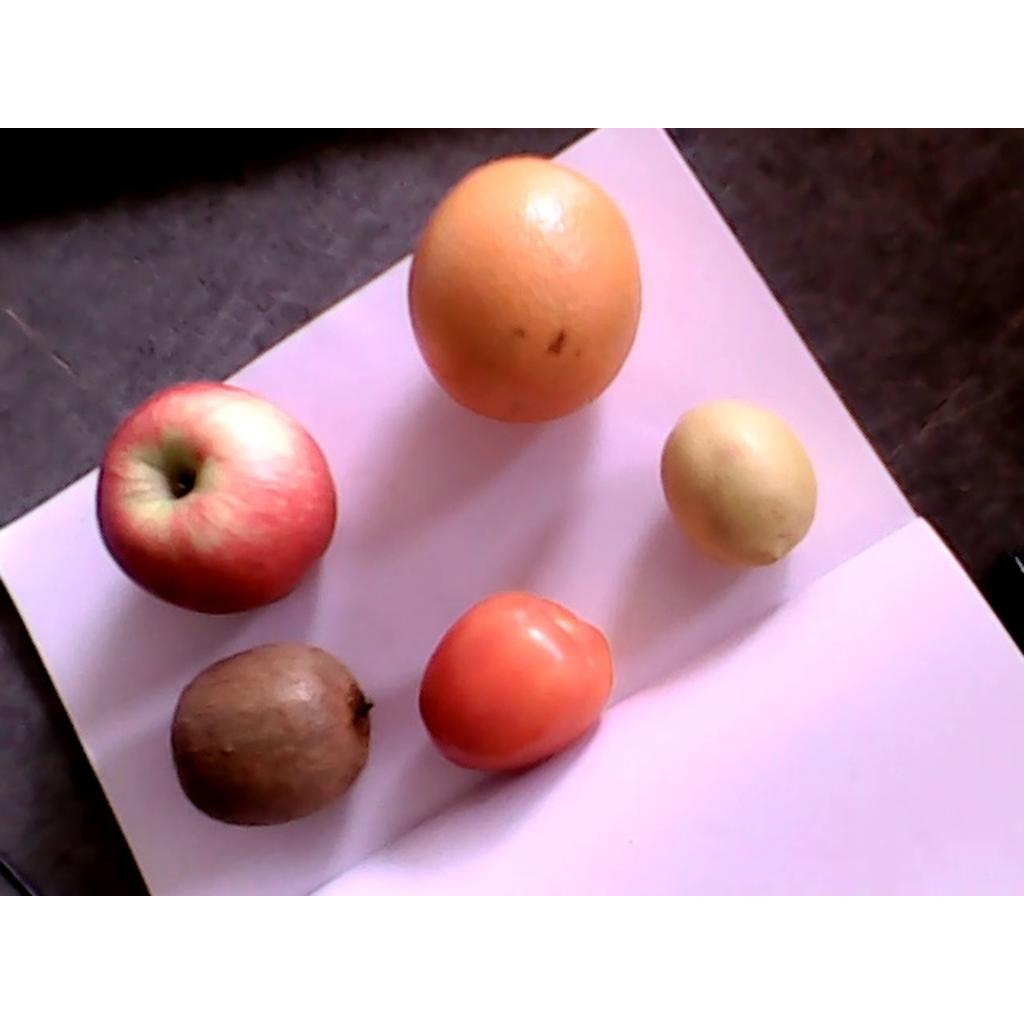apple: (98, 382, 335, 614)
kiwi: (171, 645, 375, 826)
lemon: (660, 403, 816, 569)
orange: (408, 156, 643, 421)
tomato: (416, 592, 614, 773)
